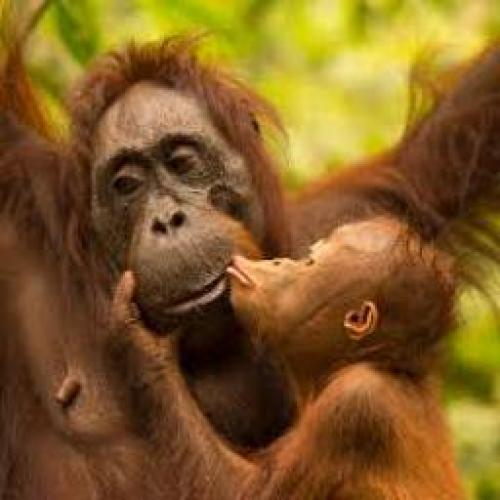orangutan-endangered: (0, 25, 482, 499), (99, 217, 468, 500)
